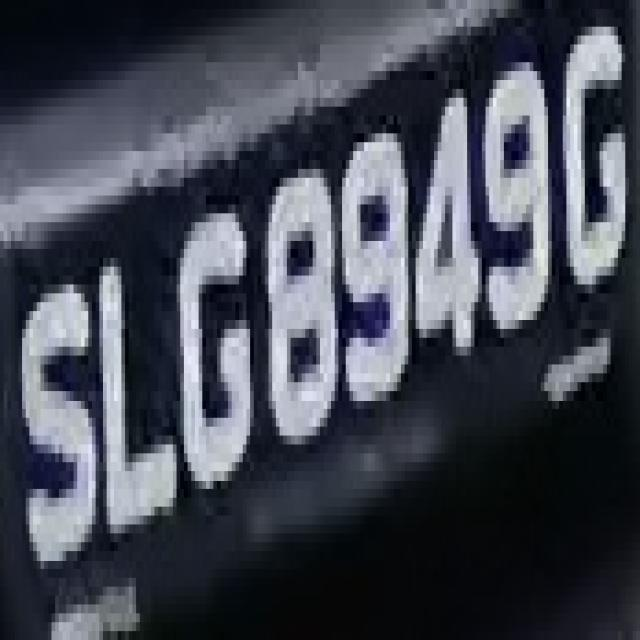4: (401, 62, 493, 374)
8: (257, 143, 346, 444)
9: (328, 89, 408, 435), (474, 36, 556, 373)
G: (177, 186, 250, 506), (559, 27, 633, 329)
L: (100, 222, 180, 560)
S: (18, 258, 103, 622)
